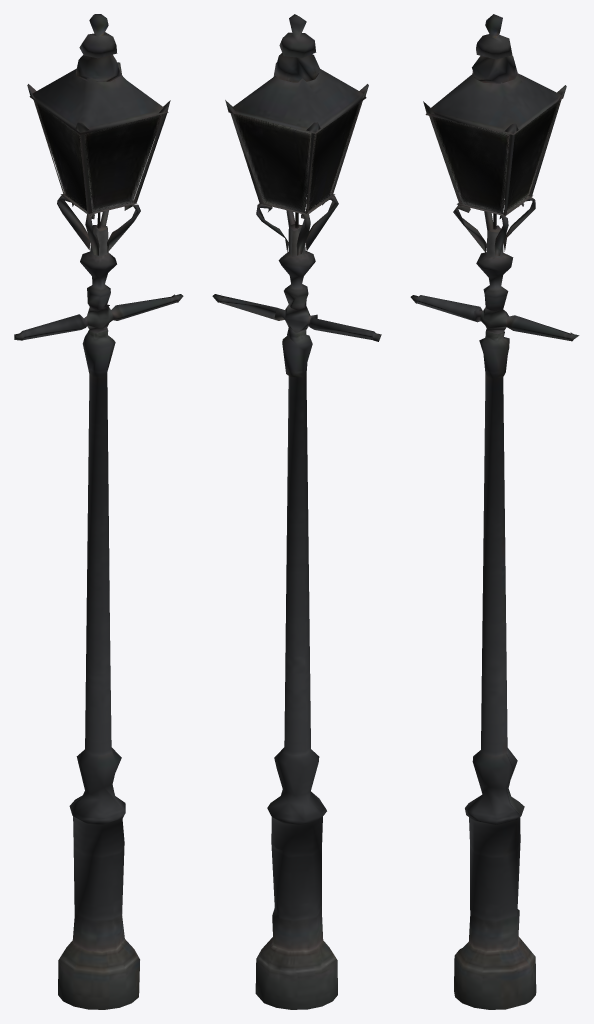
File: street_lamp.glb
The picture shows the model from 3 angles, left to right: view 1: azimuth 30°, elevation 25°; view 2: azimuth 150°, elevation 25°; view 3: azimuth 330°, elevation 25°; orthographic projection.
Visible parts, largest first — view 1: street_lamp; view 2: street_lamp; view 3: street_lamp.
Boxes of the visible parts, x1,y1,x2,y2 form: street_lamp: (14,14,183,1009); street_lamp: (212,14,381,1009); street_lamp: (410,14,579,1009).
Size of the model in its own units: 0.689 by 3.87 by 0.3841.
Materials: 2 (2 with a texture image).
